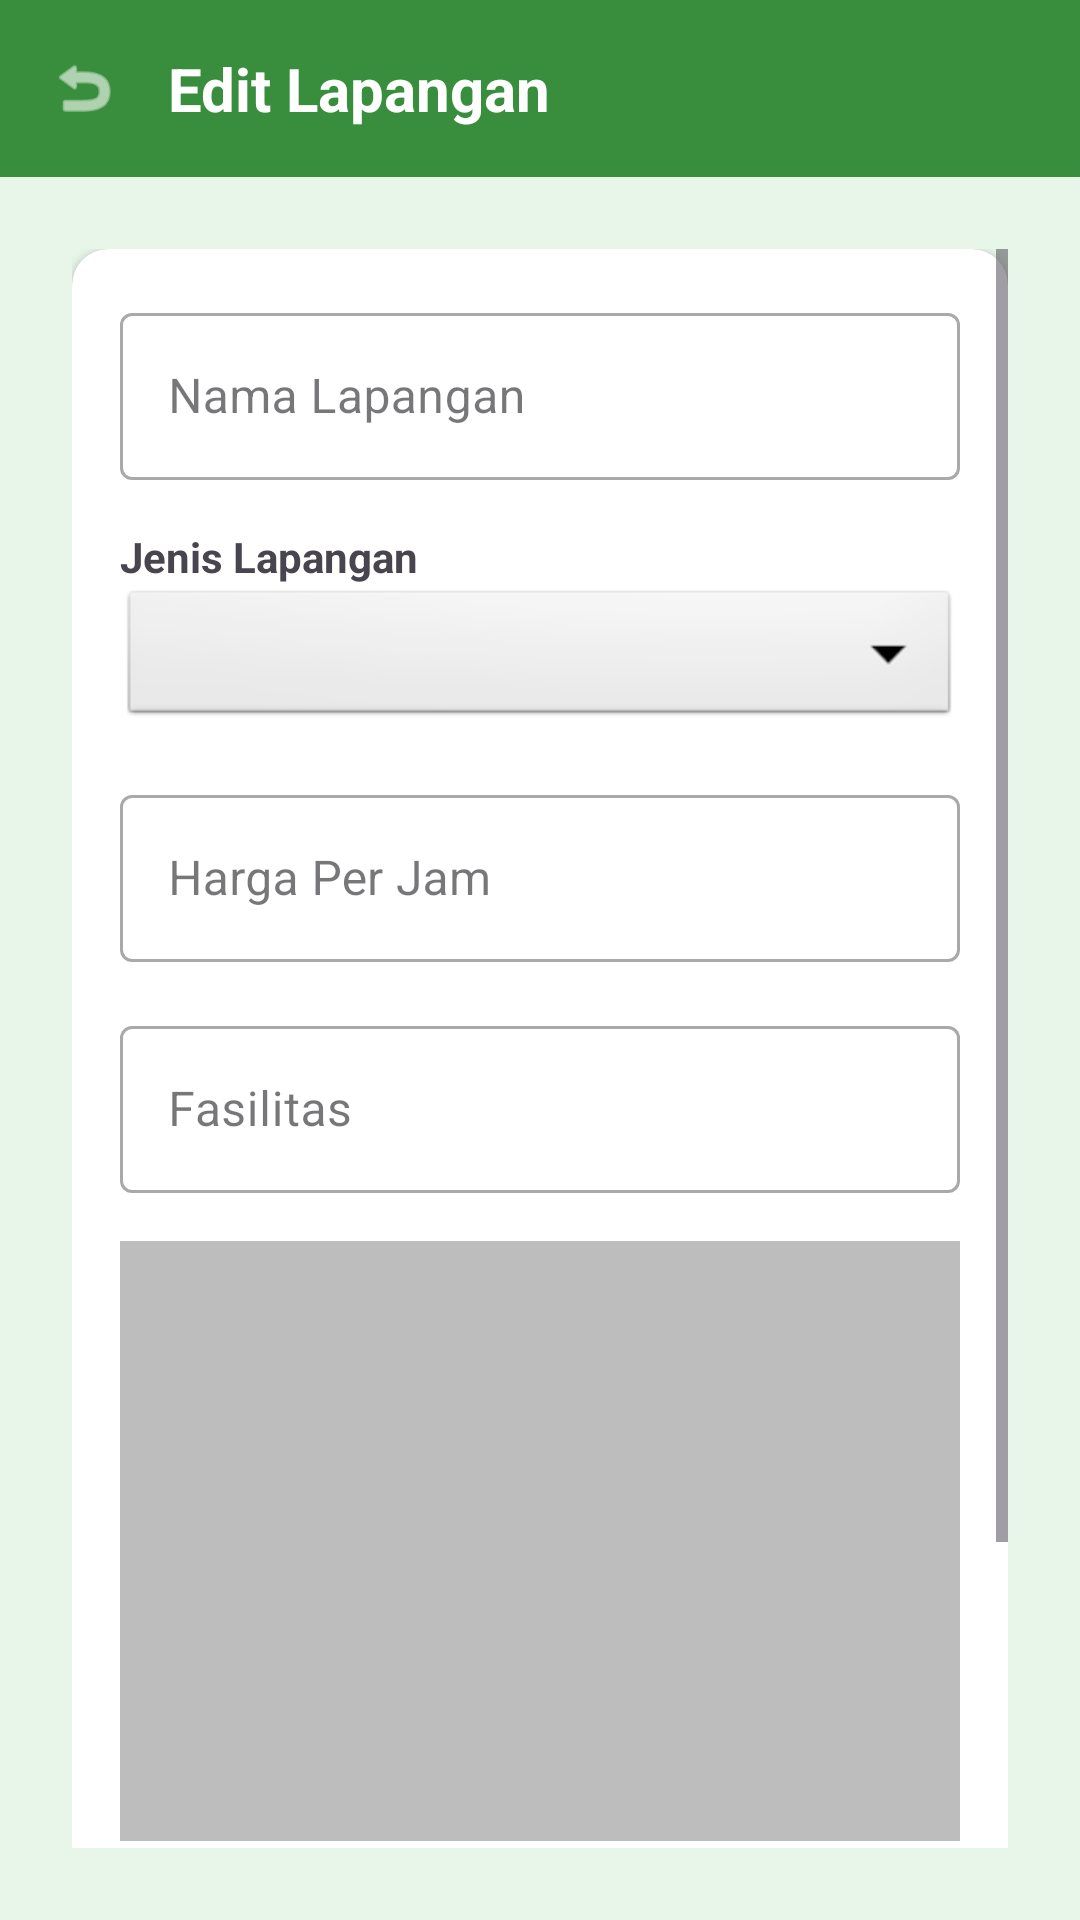

Where to tap for icons on this 1080w x 1920h app screen, as (x=x, y=y):
Back: (x=85, y=88)
